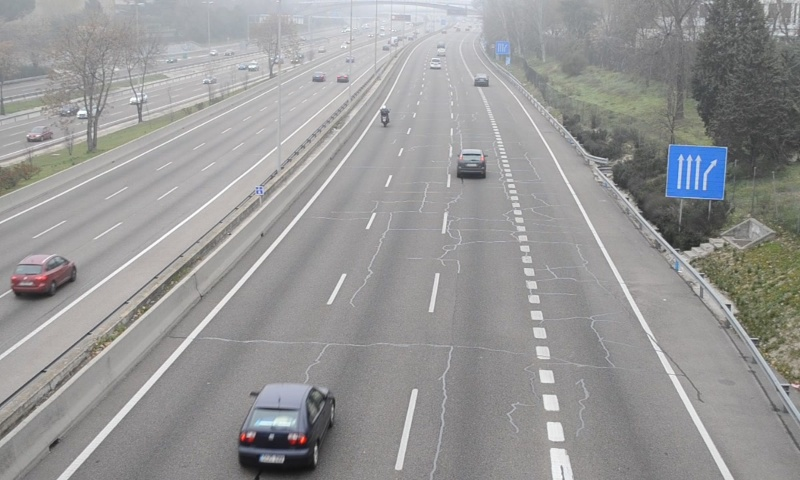car: (236, 382, 335, 471), (456, 148, 486, 180), (474, 74, 488, 87)
motorcycle: (378, 105, 390, 128)
